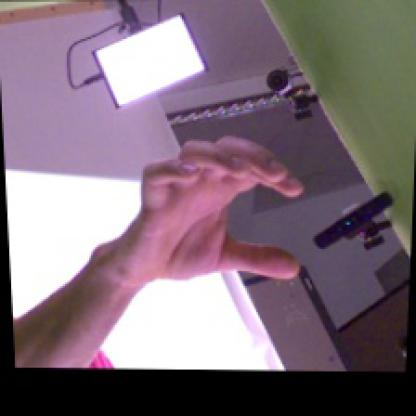Hand: (139, 134, 301, 280)
